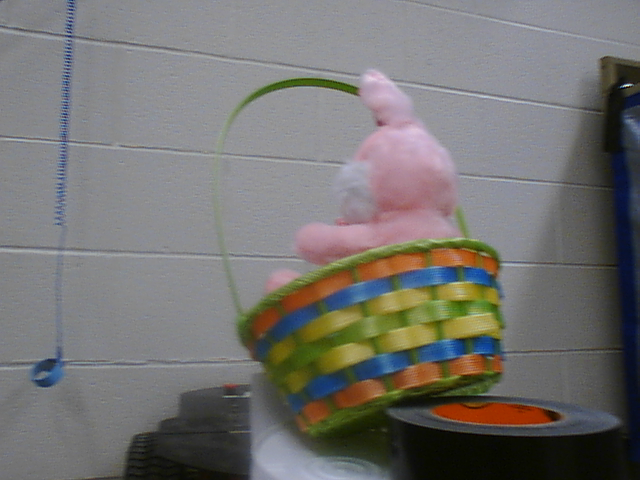bunny: (202, 58, 524, 444)
